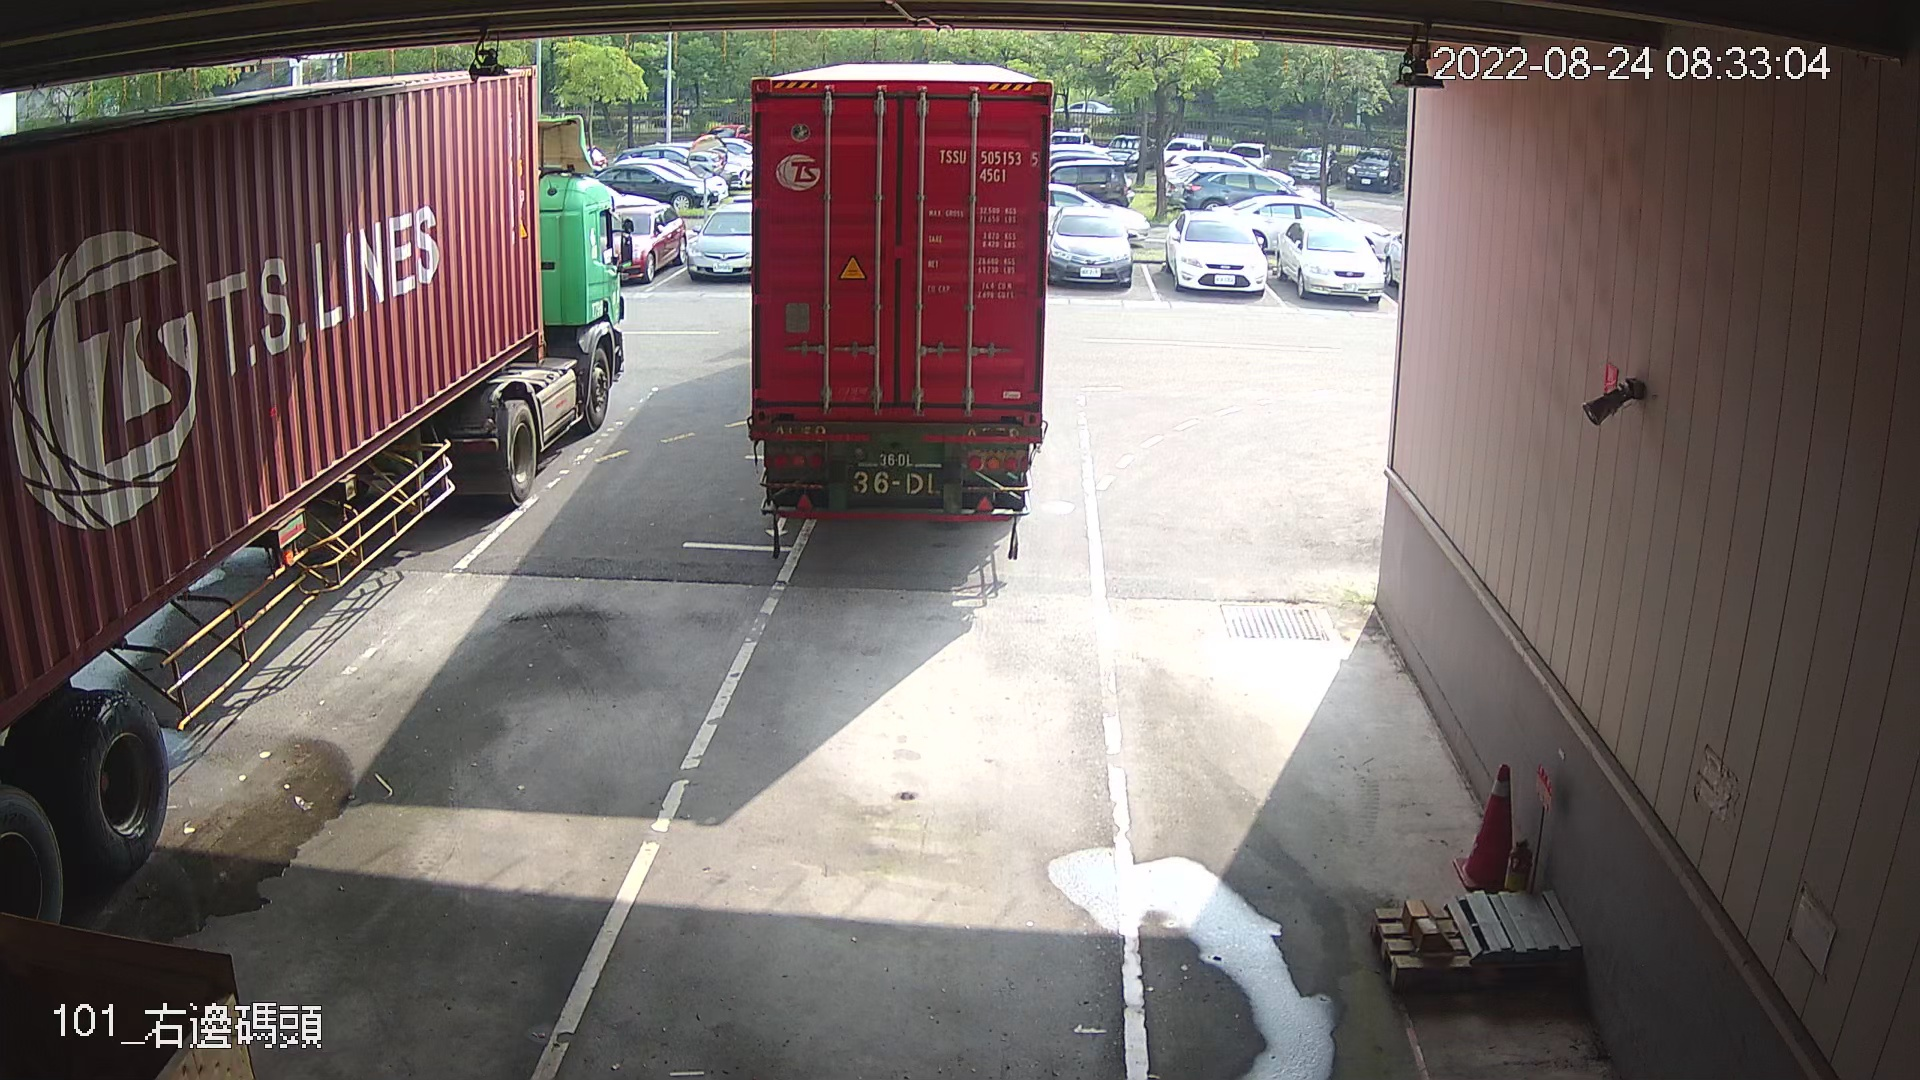container: (931, 138, 1042, 189)
